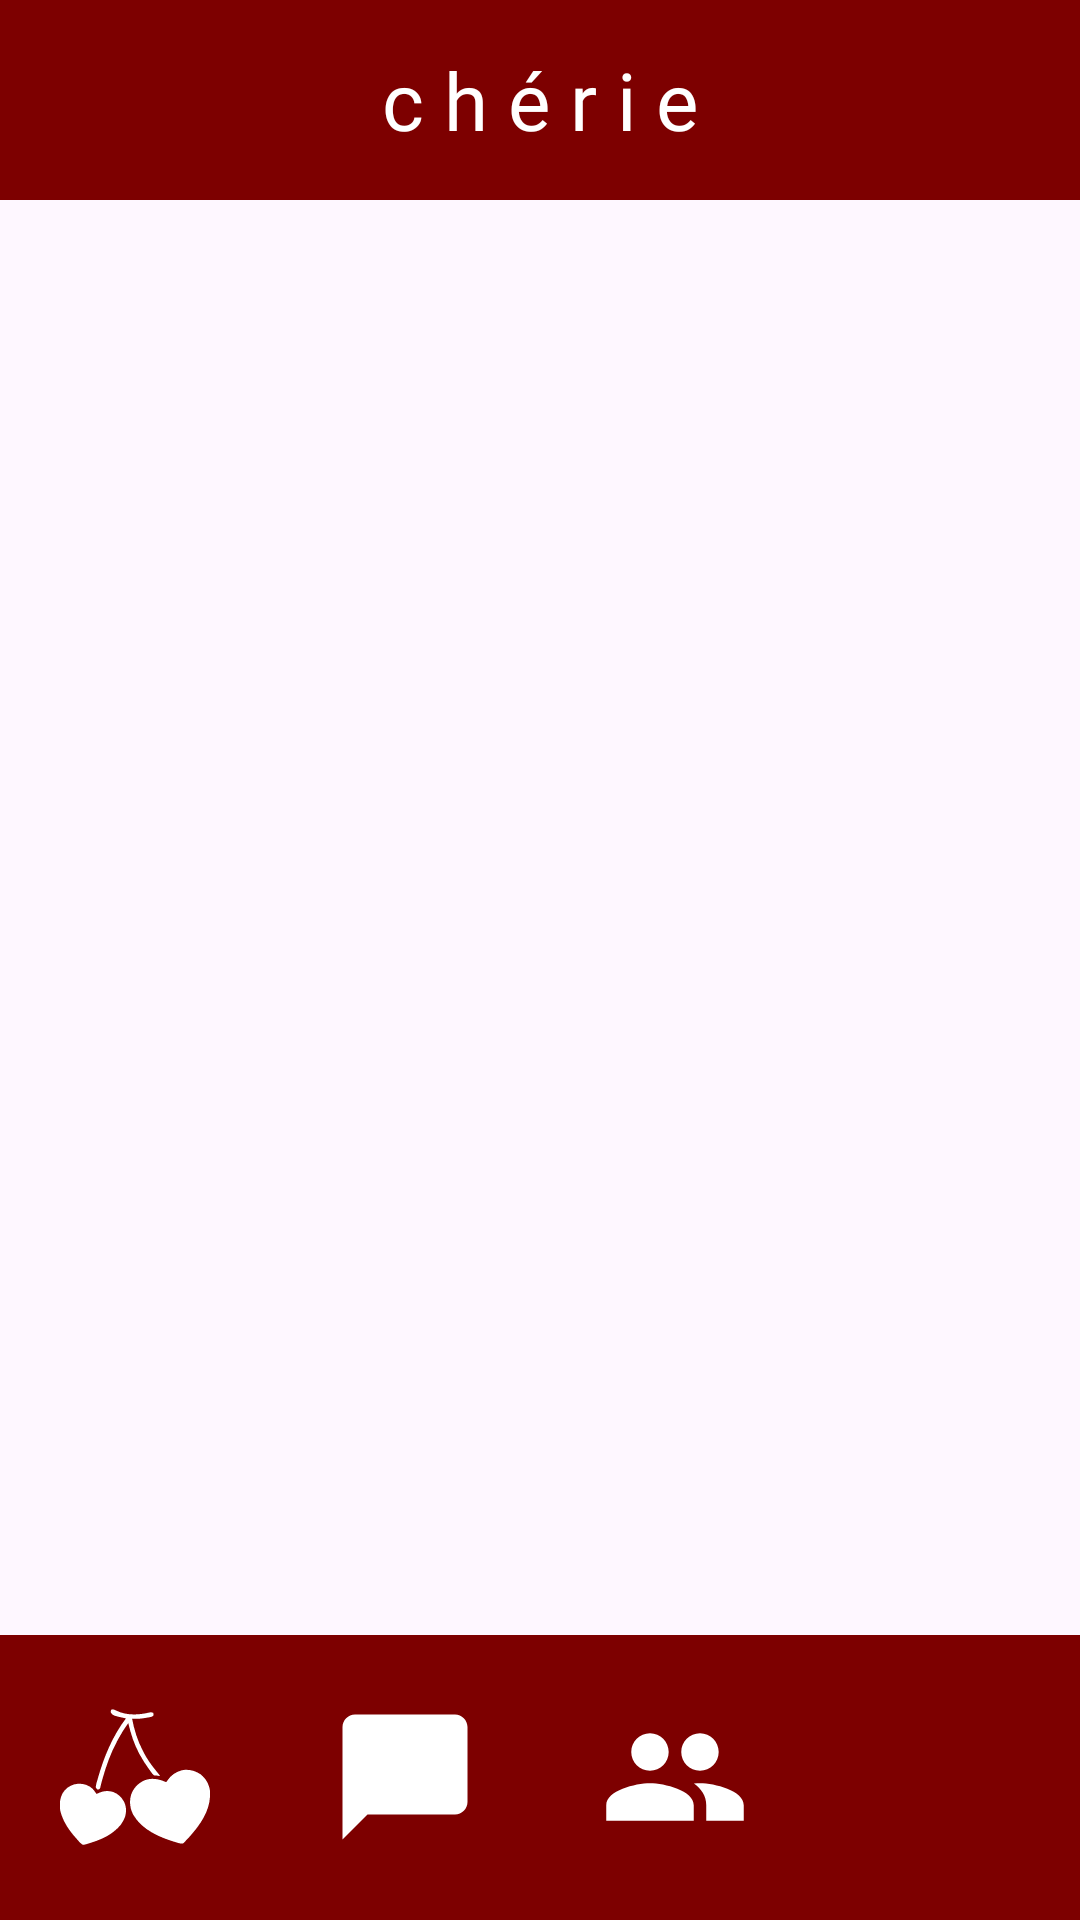

Icon bounding boxes for this 1080px×1920px phone screenshot, format bbox=(x1, y1, x2, y2):
Chat: bbox=(342, 1714, 468, 1840)
